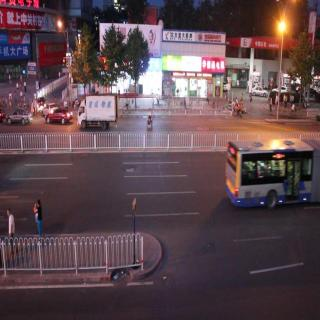BigCar: (224, 139, 320, 211), (78, 95, 118, 131)
Car: (45, 106, 73, 125), (8, 110, 32, 128), (251, 84, 268, 99)
